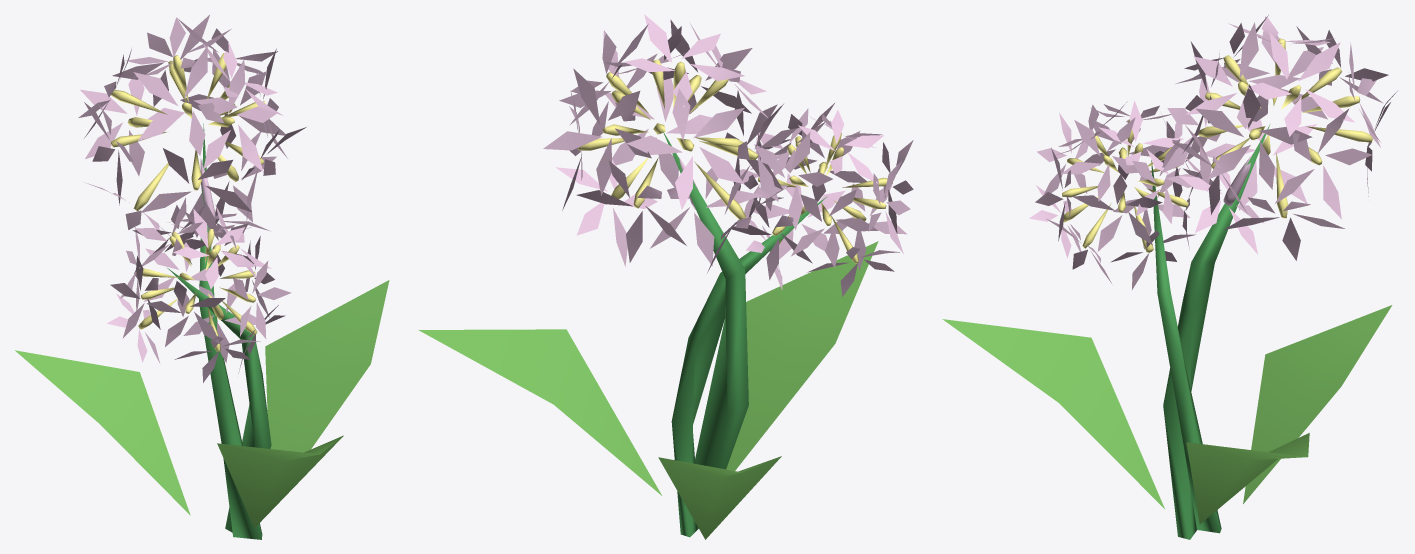
The model's file is fleur 2.fbx.
3 renders of one model, left to right at view 1: azimuth 30°, elevation 25°; view 2: azimuth 150°, elevation 25°; view 3: azimuth 270°, elevation 25°, orthographic. The views are drawn at different scales.
Parts seen in each view (by area): view 1: Flower.003; view 2: Flower.003; view 3: Flower.003.
Boxes of the visible parts, left/top/right/bottom form: Flower.003: left=15, top=15, right=389, bottom=539; Flower.003: left=418, top=14, right=913, bottom=539; Flower.003: left=942, top=15, right=1397, bottom=539.
Size of the model in its own units: 165 by 211 by 173.
